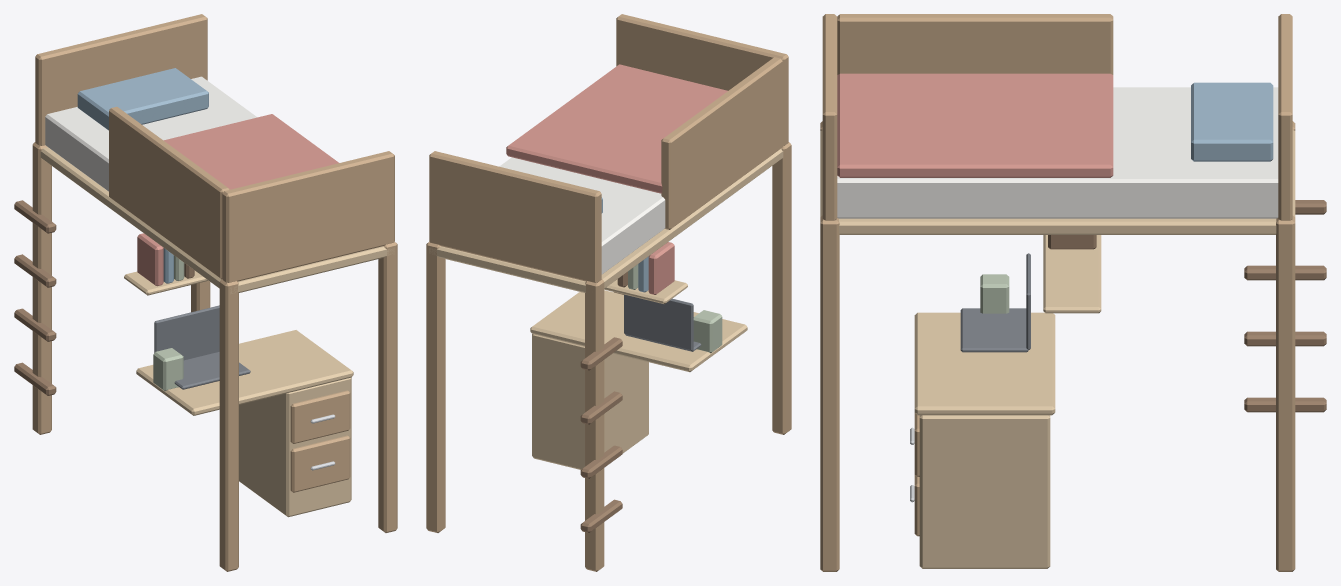
File: LoftBed_WithDesk.glb
The picture shows the model from 3 angles, left to right: view 1: azimuth 30°, elevation 25°; view 2: azimuth 150°, elevation 25°; view 3: azimuth 270°, elevation 25°; orthographic projection. The views are drawn at different scales.
Parts seen in each view (by area): view 1: LoftBed_WithDesk_Body; view 2: LoftBed_WithDesk_Body; view 3: LoftBed_WithDesk_Body.
Boxes of the visible parts, left/top/right/bottom form: LoftBed_WithDesk_Body: left=14, top=14, right=397, bottom=571; LoftBed_WithDesk_Body: left=426, top=14, right=791, bottom=571; LoftBed_WithDesk_Body: left=820, top=14, right=1326, bottom=571.
Bounding box in the file's own units: 1.03 × 2.09 × 2.09.
